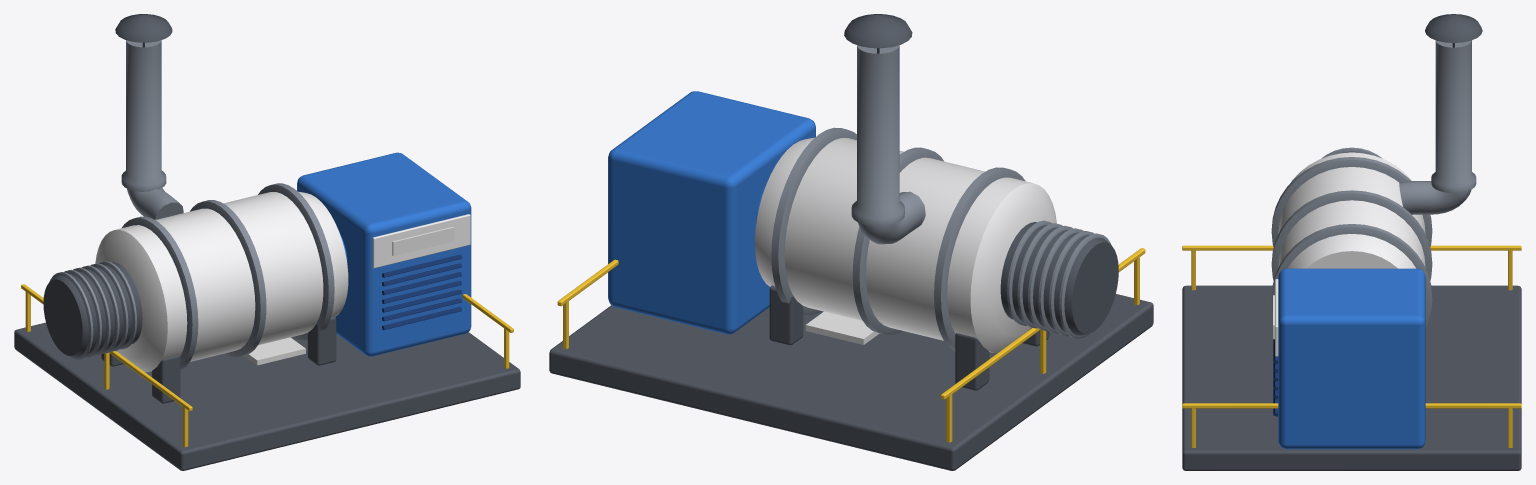
Rendered from BiogasTurbine.fbx.
3 renders of one model, left to right at view 1: azimuth 30°, elevation 25°; view 2: azimuth 150°, elevation 25°; view 3: azimuth 270°, elevation 25°, orthographic. The views are drawn at different scales.
Parts seen in each view (by area): view 1: Body__MetalDark, Body__White, Body__Blue, Body__Steel, Body__BlueDark, Body__Yellow, Origin__Pivot, Body__Blue!1; view 2: Body__MetalDark, Body__Blue, Body__White, Body__Steel, Body__Yellow, Origin__Pivot; view 3: Body__MetalDark, Body__Blue, Body__Steel, Body__White, Body__Yellow, Body__BlueDark.
Boxes of the visible parts, box(x1,y1,x2,y2) form: Body__MetalDark: box(14, 14, 520, 470); Body__White: box(95, 191, 470, 372); Body__Blue: box(297, 152, 471, 356); Body__Steel: box(49, 40, 334, 370); Body__BlueDark: box(382, 254, 461, 329); Body__Yellow: box(21, 284, 513, 446); Origin__Pivot: box(244, 337, 305, 365); Body__Blue!1: box(392, 226, 454, 256); Body__MetalDark: box(549, 14, 1153, 470); Body__Blue: box(608, 91, 815, 334); Body__White: box(755, 137, 1056, 353); Body__Steel: box(771, 45, 1111, 350); Body__Yellow: box(557, 248, 1145, 442); Origin__Pivot: box(805, 311, 879, 344); Body__MetalDark: box(1182, 14, 1521, 470); Body__Blue: box(1278, 268, 1425, 449); Body__Steel: box(1271, 40, 1476, 327); Body__White: box(1275, 152, 1425, 356); Body__Yellow: box(1182, 245, 1521, 447); Body__BlueDark: box(1273, 339, 1278, 416).
Size of the model in its own units: 7.7 by 7.08 by 6.
